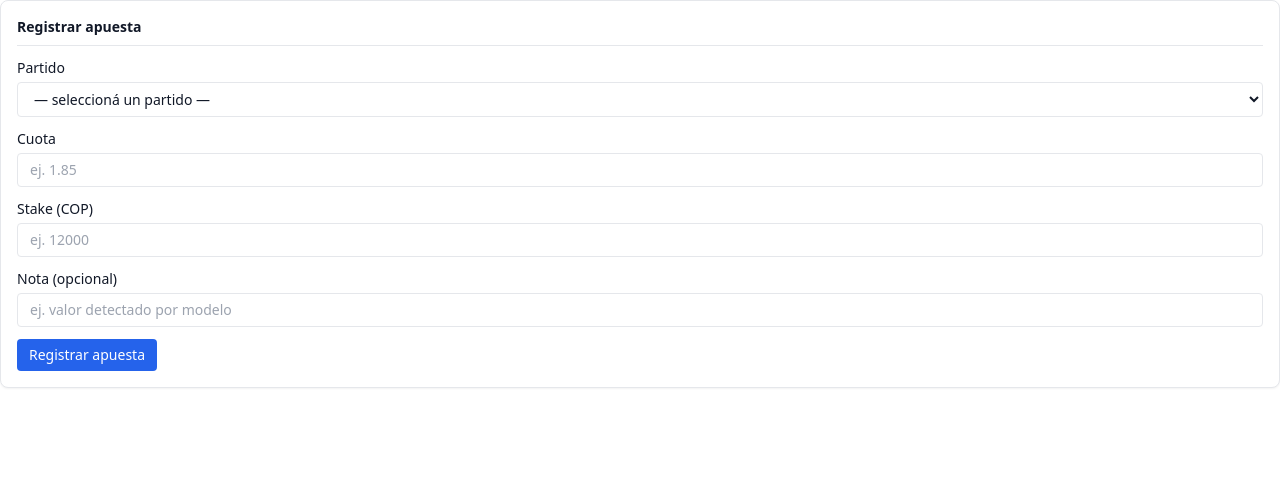
it: BetForm (4.5) › muestra error de campo (422) debajo del input correspondiente
Select "2026-06-15 · Argentina vs Brasil" in the dropdown labelled "Partido": (640, 100) [17,82,1263,117]
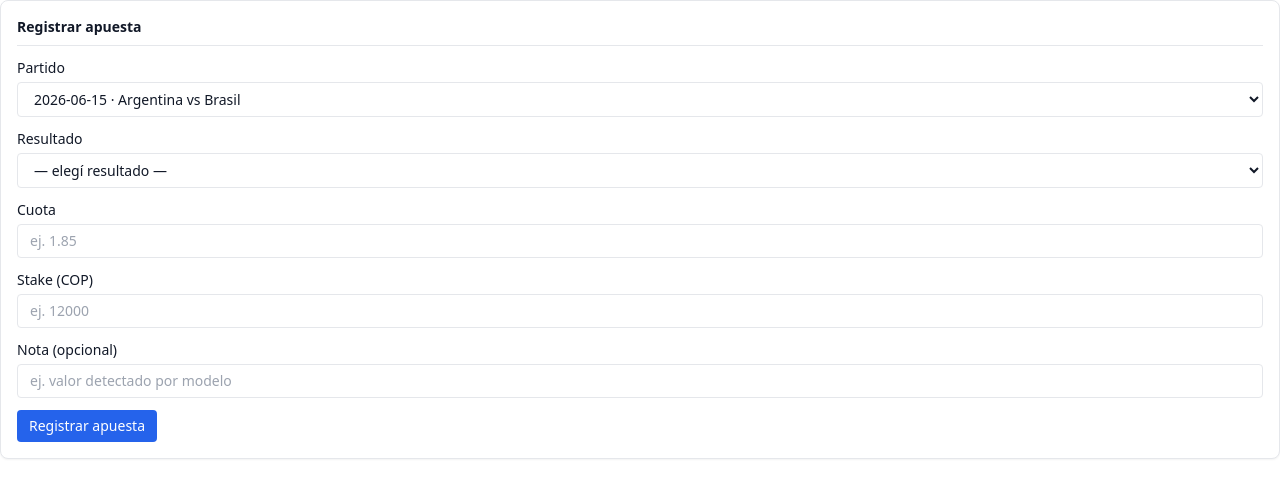
Expected: the dropdown labelled "Resultado" is shown
Select "Argentina gana" in the dropdown labelled "Resultado": (640, 170) [17,153,1263,188]
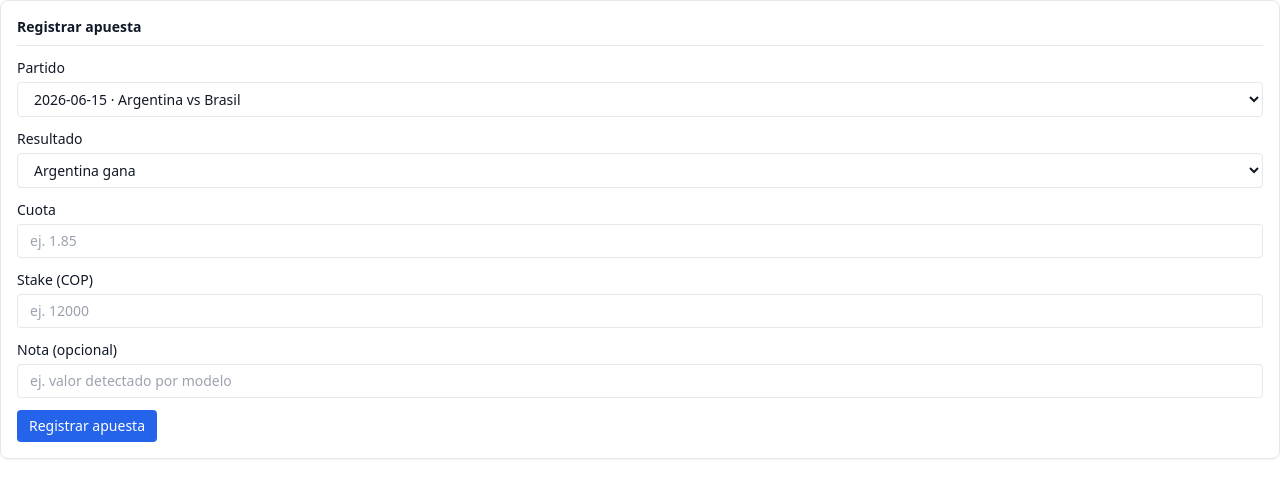
In the number field labelled "Cuota": (640, 241) [17,224,1263,258], type "1.85"
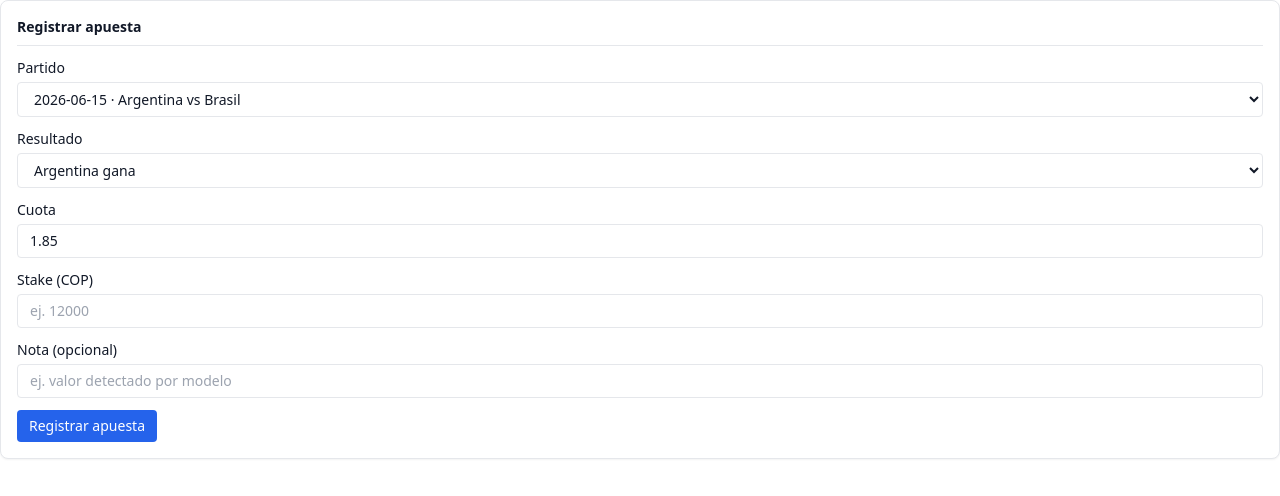
In the number field labelled "Stake (COP)": (640, 311) [17,294,1263,328], type "0"
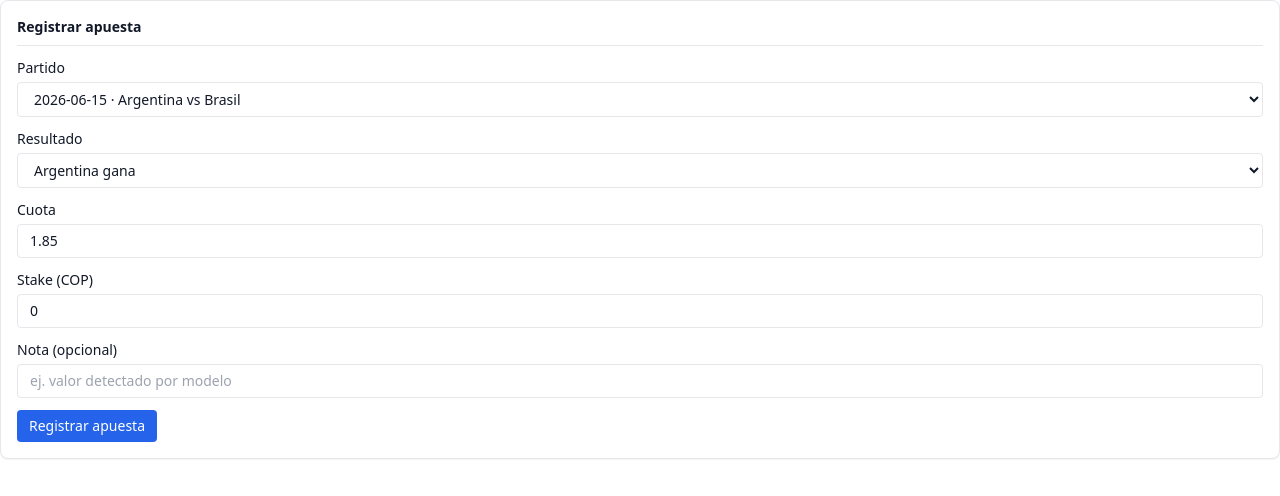
Submit the form
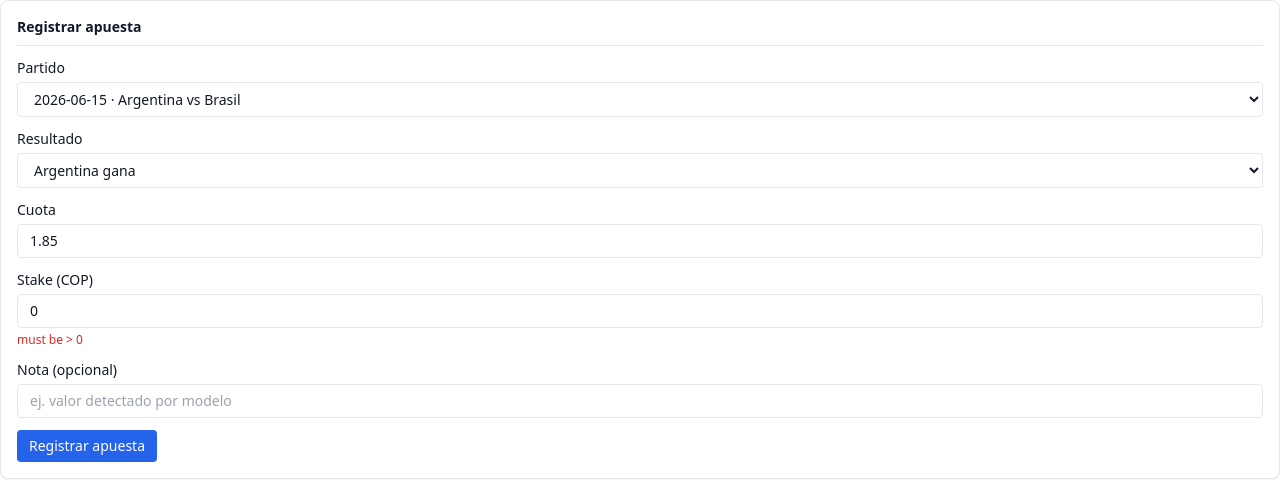
Expected: the text "must be > 0" is shown, [17,331,83,348]
